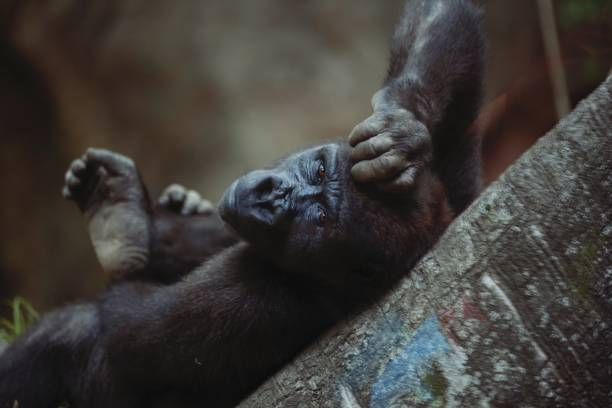chimpanzee: (205, 143, 448, 291)
